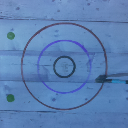Axe Tip: (98, 75, 107, 78)
